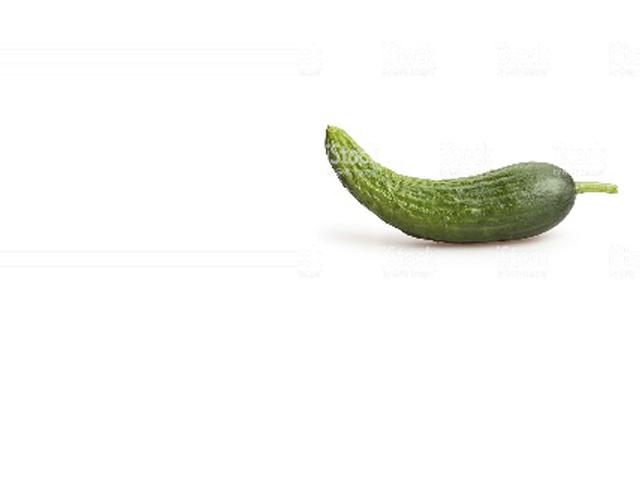cucumber: (324, 126, 618, 243)
